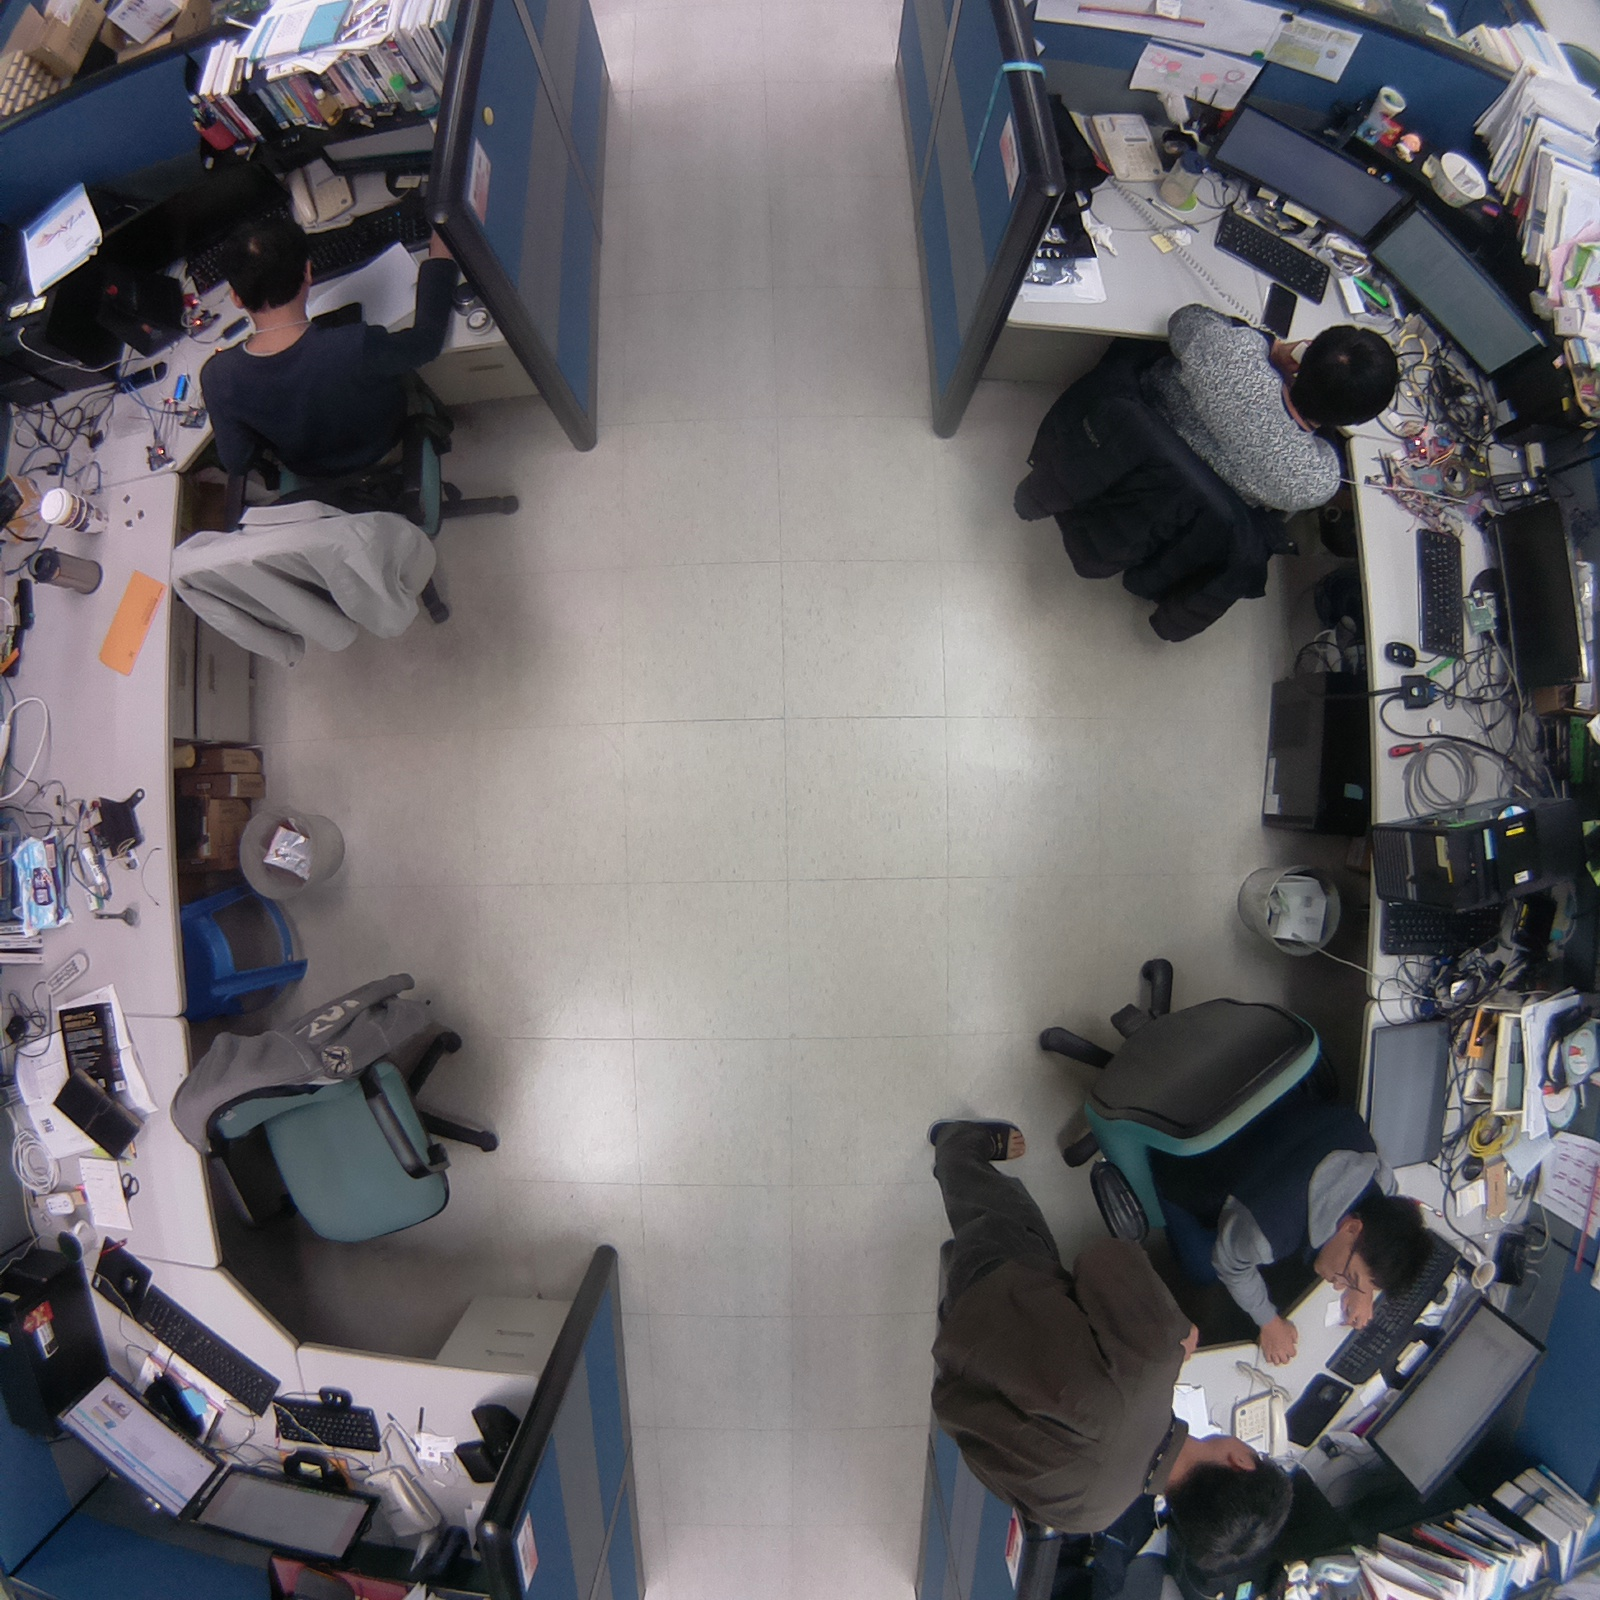chair: (158, 955, 509, 1281)
head: (1159, 1425, 1300, 1591), (1323, 1185, 1438, 1308), (1291, 319, 1404, 434), (217, 204, 323, 319)
sitting: (1024, 940, 1437, 1386), (153, 207, 537, 681), (1001, 291, 1408, 660)
standing: (907, 1107, 1302, 1574)
